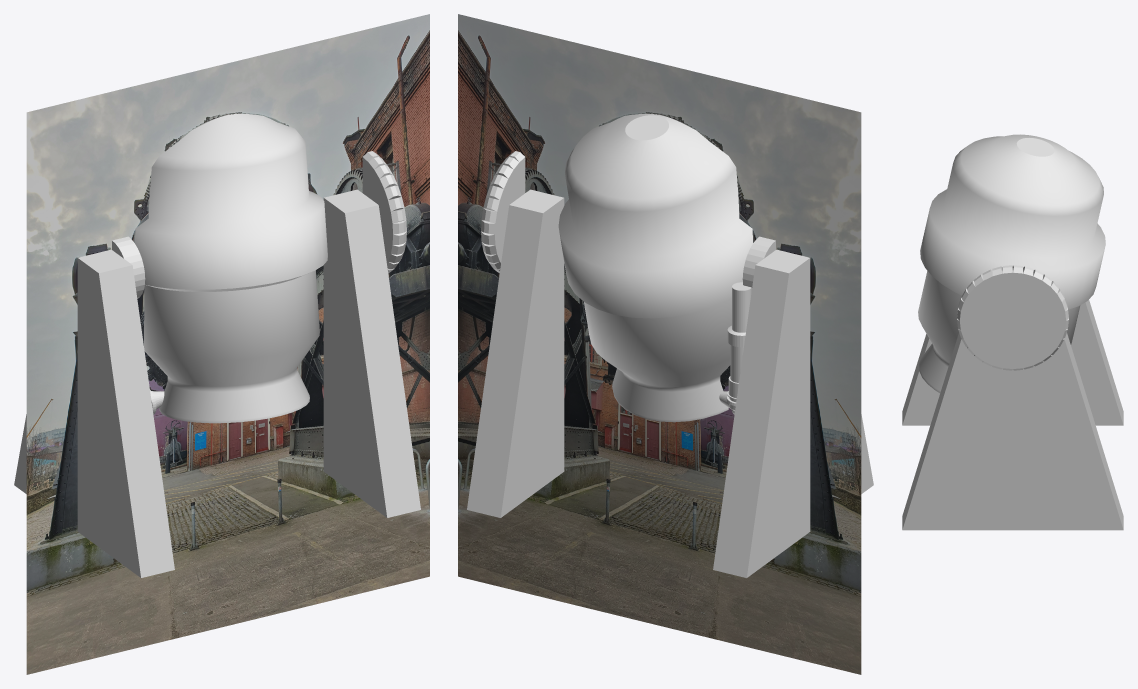
The model's file is crucible2.gltf.
The picture shows the model from 3 angles, left to right: view 1: azimuth 30°, elevation 25°; view 2: azimuth 150°, elevation 25°; view 3: azimuth 270°, elevation 25°; orthographic projection. The views are drawn at different scales.
Visible parts, largest first — view 1: 20220322_091237, Cylinder, Cube, Cube.001, Cylinder.001, Cylinder.002; view 2: 20220322_091237, Cylinder, Cube, Cube.001, Cylinder.001, Cylinder.003, Cylinder.002; view 3: Cube.001, Cylinder, Cylinder.001, Cube.
Part boxes in pixels (bbox=[...]): 20220322_091237: bbox=[26, 14, 429, 674]; Cylinder: bbox=[135, 113, 327, 423]; Cube: bbox=[14, 249, 174, 577]; Cube.001: bbox=[323, 189, 420, 517]; Cylinder.001: bbox=[362, 151, 406, 272]; Cylinder.002: bbox=[112, 236, 145, 298]; 20220322_091237: bbox=[458, 14, 861, 674]; Cylinder: bbox=[558, 113, 752, 422]; Cube: bbox=[713, 249, 873, 577]; Cube.001: bbox=[467, 189, 564, 517]; Cylinder.001: bbox=[481, 151, 525, 272]; Cylinder.003: bbox=[719, 282, 751, 414]; Cylinder.002: bbox=[742, 236, 775, 287]; Cube.001: bbox=[902, 277, 1123, 530]; Cylinder: bbox=[918, 134, 1105, 392]; Cylinder.001: bbox=[957, 265, 1068, 370]; Cube: bbox=[902, 300, 1123, 425].
Size of the model in its own units: 4.51 by 6.01 by 2.46.
